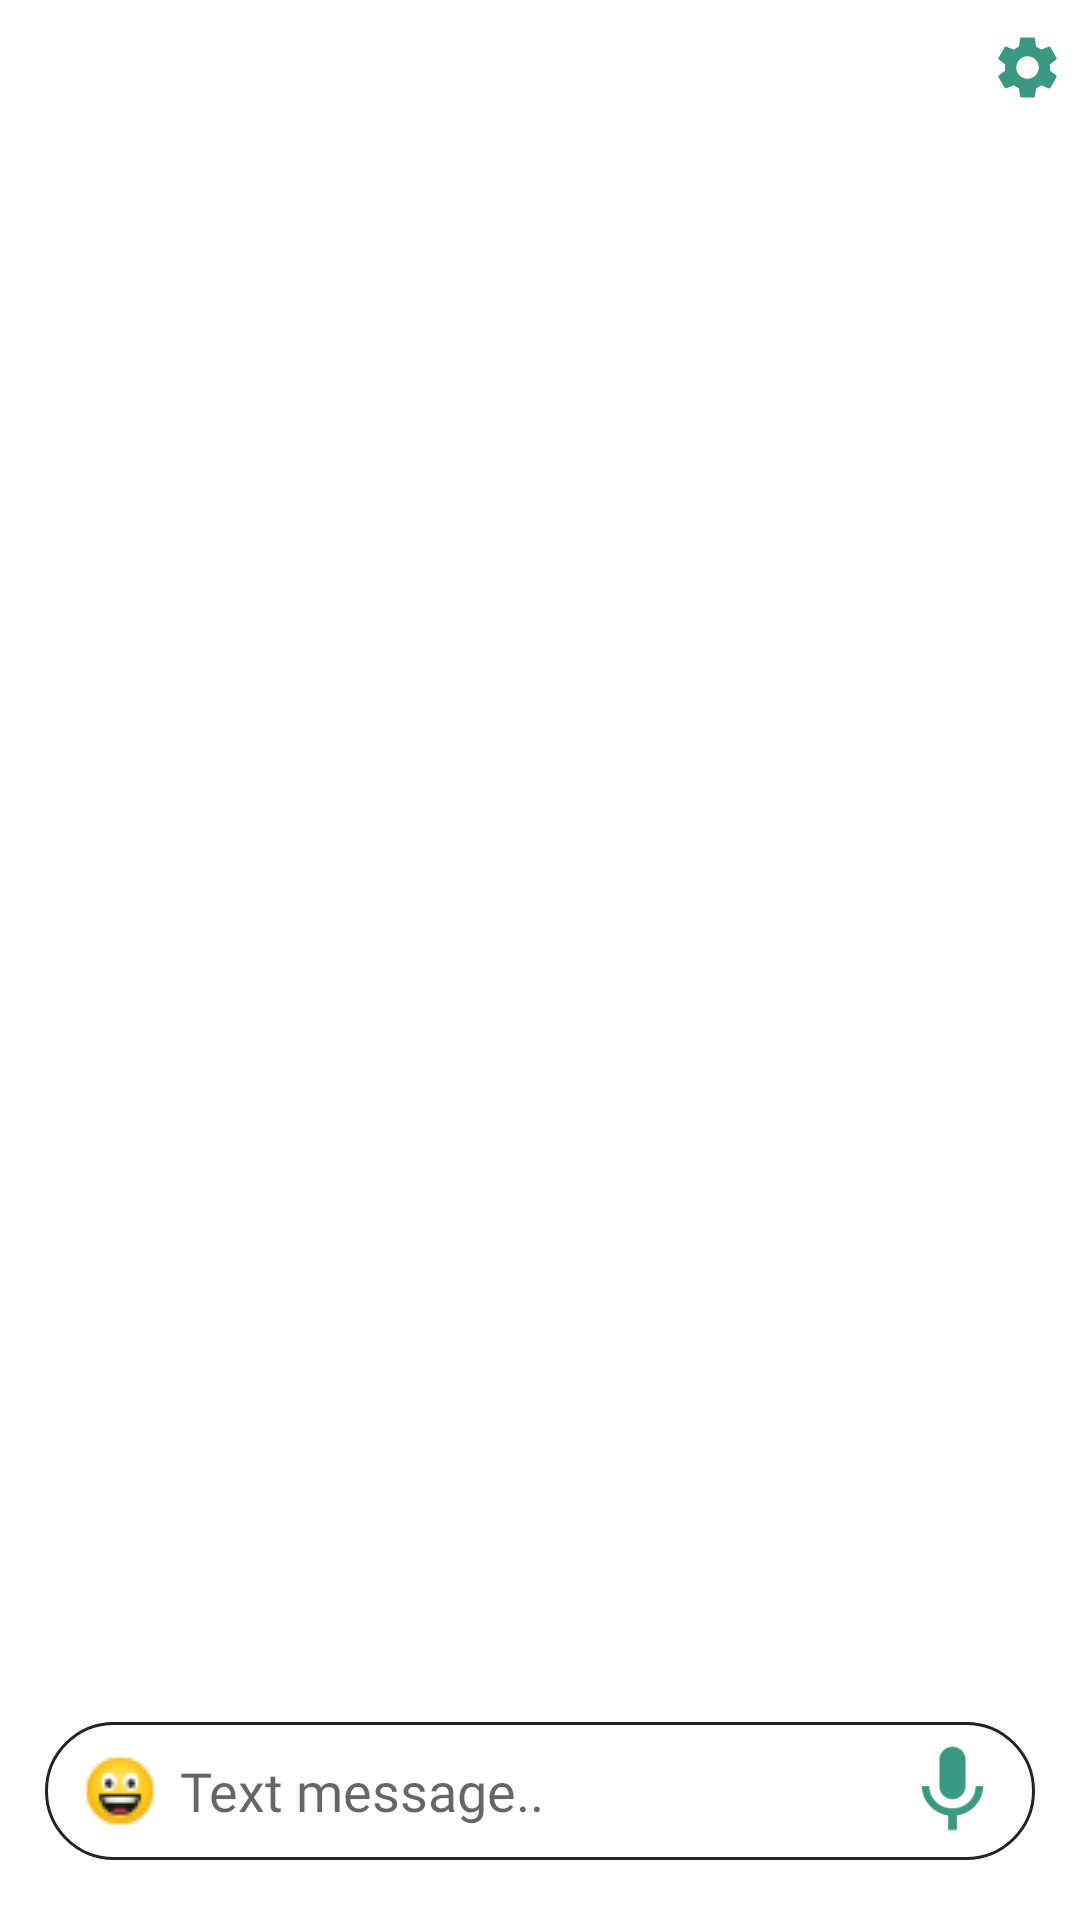

Locate icon controls on the screen. Image size 1080*1920, boxes as bbox=(x1, y1, x2, y2).
microphone: bbox=(921, 1746, 984, 1831)
setting: bbox=(998, 37, 1057, 98)
